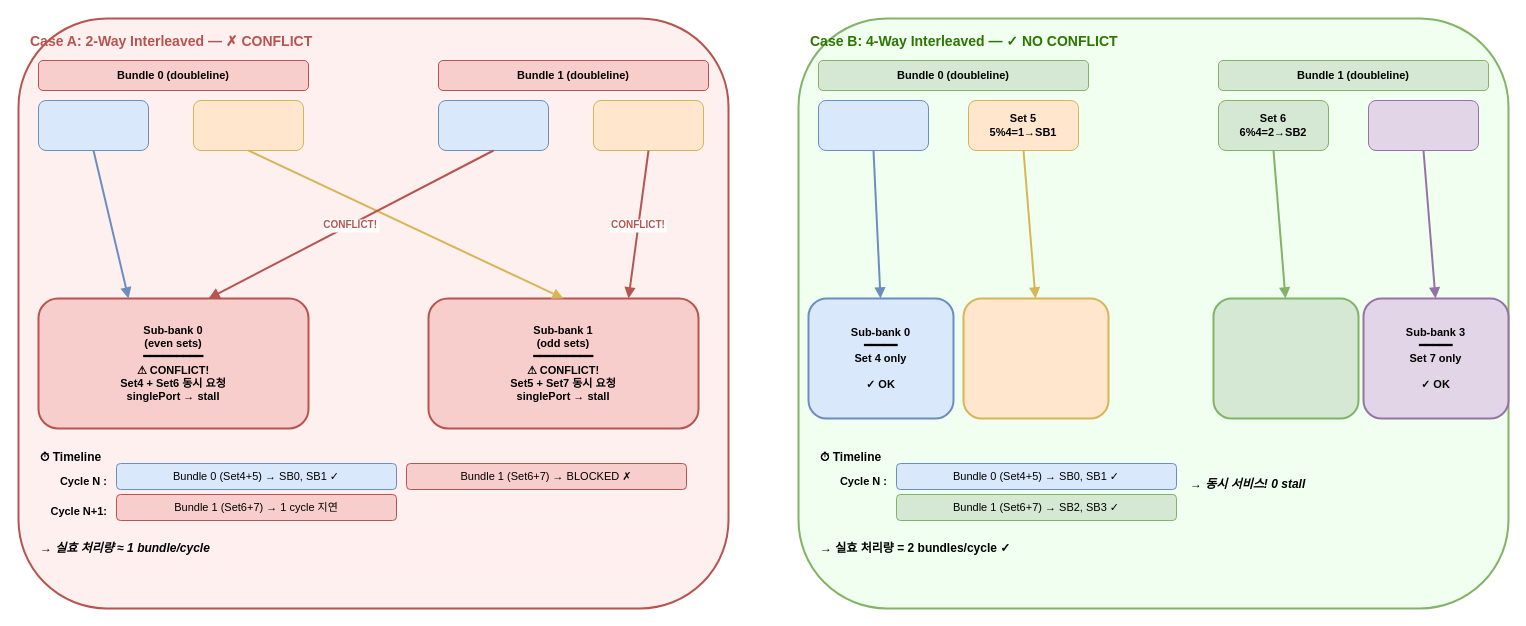
The diagram is 1526 pixels wide and 626 high, and some of its shapes have lost their labels. Each missing label, with the centre of its shape:
"Set 4 4%2=0→SB0" belongs at point (93, 125).
"Set 4 4%4=0→SB0" belongs at point (873, 125).
"Set 5 5%2=1→SB1" belongs at point (248, 125).
"Set 6 6%2=0→SB0" belongs at point (493, 125).
"Set 7 7%2=1→SB1" belongs at point (648, 125).
"Set 7 7%4=3→SB3" belongs at point (1423, 125).
"Sub-bank 1 ━━━━━ Set 5 only ✓ OK" belongs at point (1035, 358).
"Sub-bank 2 ━━━━━ Set 6 only ✓ OK" belongs at point (1285, 358).
